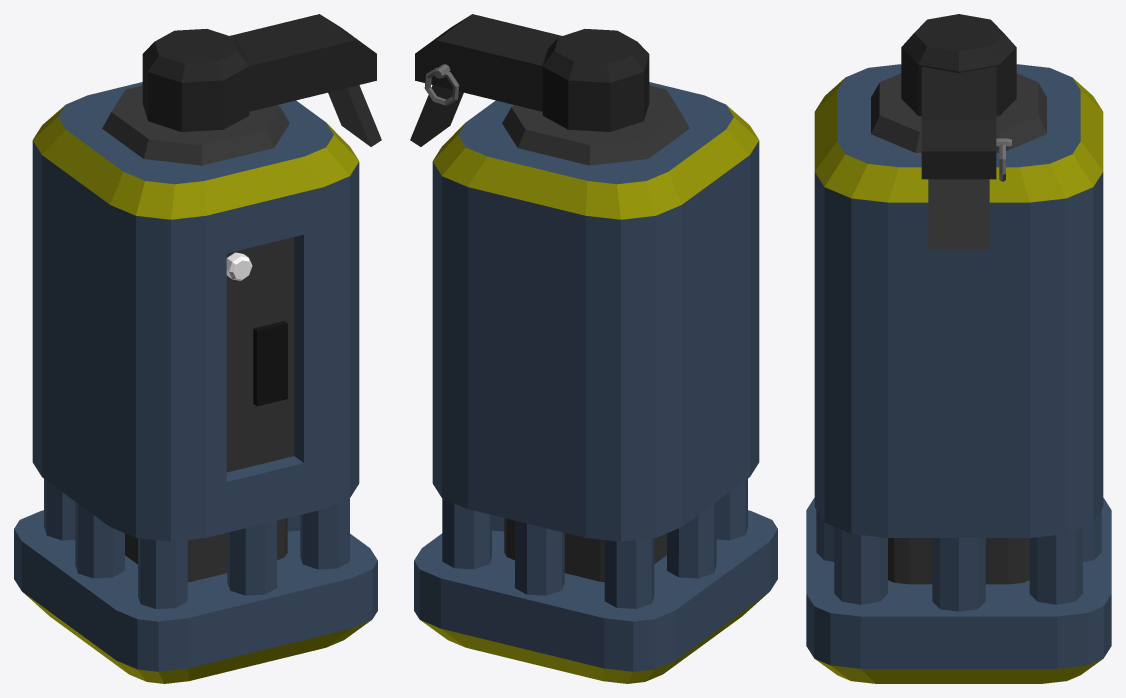
Rendered from Grenade_D_V1.FBX.
The picture shows the model from 3 angles, left to right: view 1: azimuth 30°, elevation 25°; view 2: azimuth 150°, elevation 25°; view 3: azimuth 270°, elevation 25°; orthographic projection. The views are drawn at different scales.
Parts seen in each view (by area): view 1: Grenade_D_V1; view 2: Grenade_D_V1; view 3: Grenade_D_V1.
Part boxes in pixels (<box>): Grenade_D_V1: <box>14,14,381,683</box>; Grenade_D_V1: <box>410,14,777,683</box>; Grenade_D_V1: <box>806,14,1111,683</box>.
Size of the model in its own units: 29.57 by 54.3 by 25.19.
